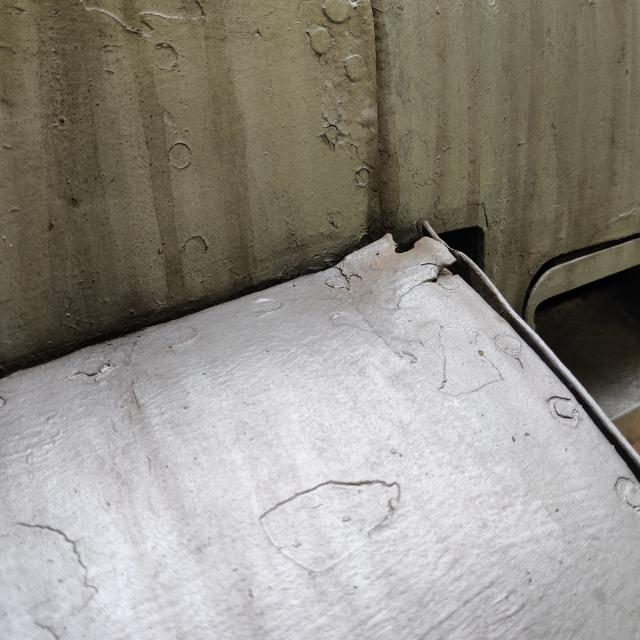crack: (384, 243, 484, 312)
